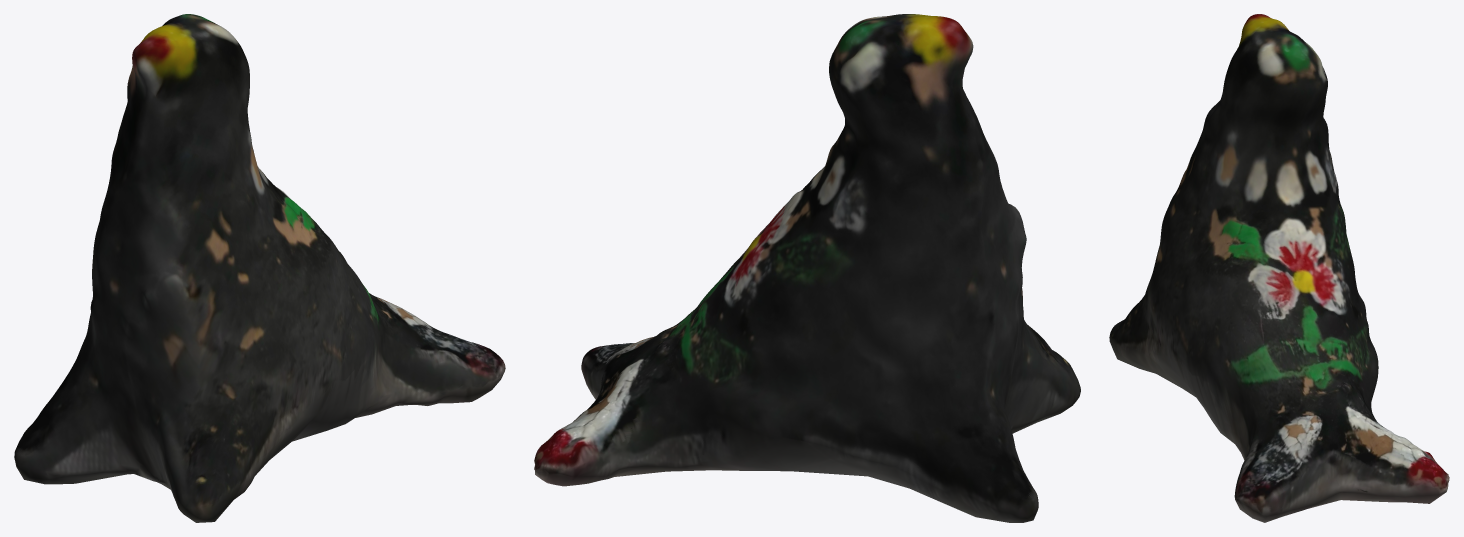
3 renders of one model, left to right at view 1: azimuth 30°, elevation 25°; view 2: azimuth 150°, elevation 25°; view 3: azimuth 270°, elevation 25°, orthographic. The views are drawn at different scales.
Size of the model in its own units: 0.5641 by 0.5241 by 0.4251.
1 material, 1 textured.
